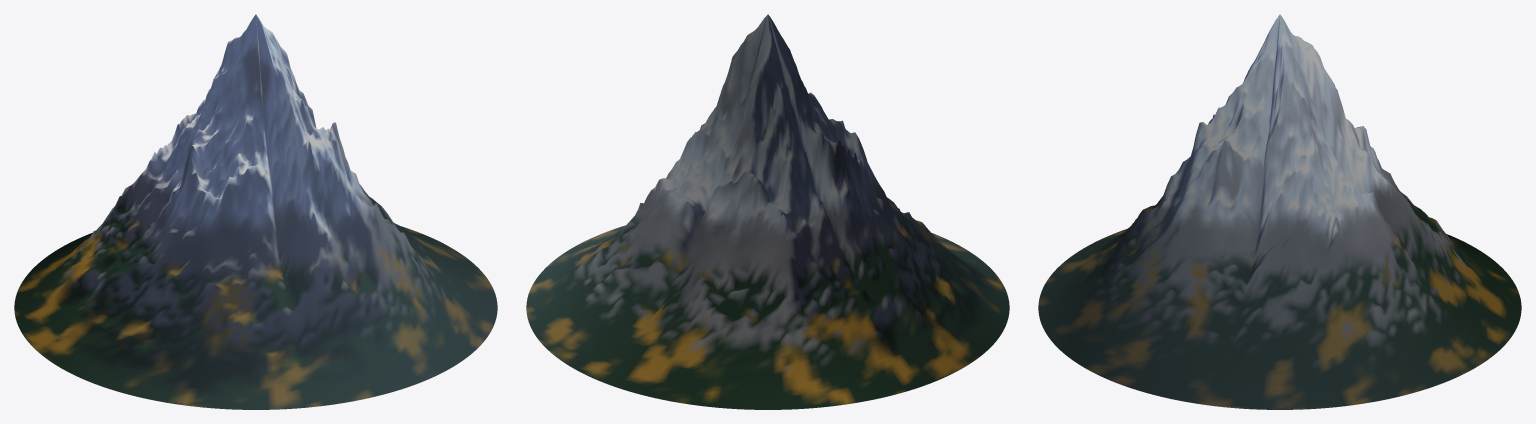
The picture shows the model from 3 angles, left to right: view 1: azimuth 30°, elevation 25°; view 2: azimuth 150°, elevation 25°; view 3: azimuth 270°, elevation 25°; orthographic projection.
Visible parts, largest first — view 1: L4_3_Peak3; view 2: L4_3_Peak3; view 3: L4_3_Peak3.
Part boxes in pixels (<box>): L4_3_Peak3: <box>14,14,497,409</box>; L4_3_Peak3: <box>526,14,1009,409</box>; L4_3_Peak3: <box>1038,14,1521,409</box>.
Bounding box in the file's own units: 1520 × 1020 × 1520.
